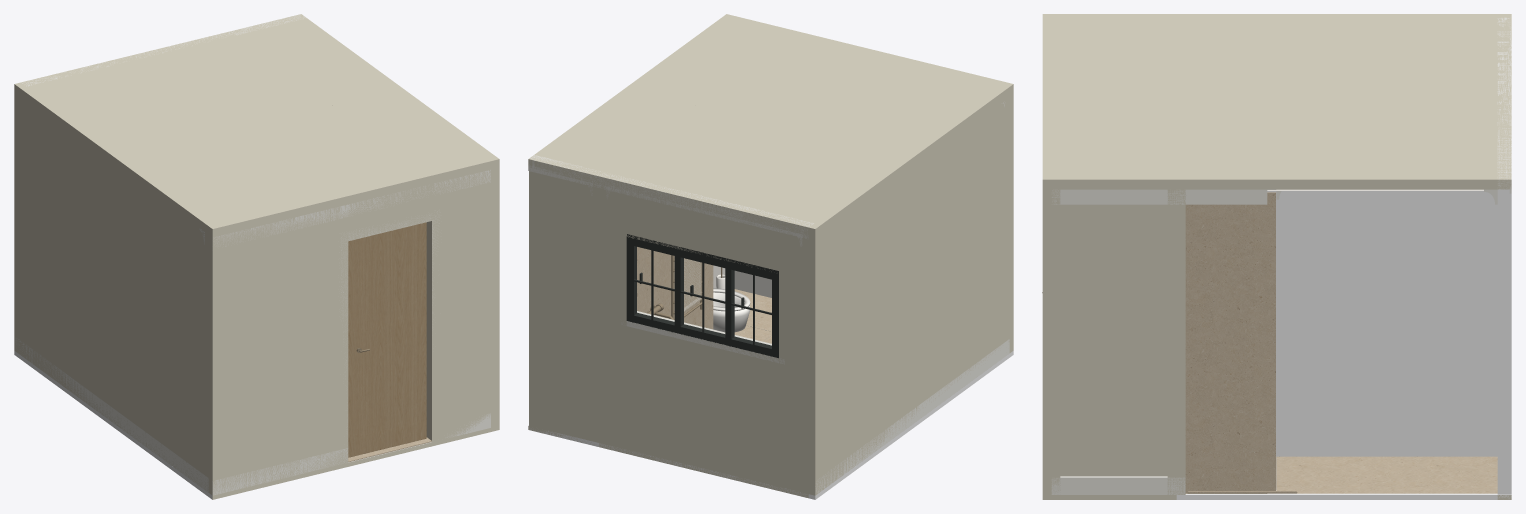
The picture shows the model from 3 angles, left to right: view 1: azimuth 30°, elevation 25°; view 2: azimuth 150°, elevation 25°; view 3: azimuth 270°, elevation 25°; orthographic projection. The views are drawn at different scales.
Visible parts, largest first — view 1: Bathroom bedroom 3 | end.001, Bathroom | ceiling.001, Bathroom hall | pier 0.001, Familybath 01 | entrance door leaf.001, Bathroom hall | end.001, Principal en suite | ceiling.001, Landing continuous ceiling.001, Bedroom 3 hall door | end.001, Bathroom hall | lintel 0.001, Bedroom 3 | ceiling.001, Bathroom bedroom 3 | skirting end-1.001, Airing cupboard hall | west jamb.001 (+4 smaller); view 2: Bathroom bedroom 3 | end.001, Bathroom | ceiling.001, Proposal revision | Bathroom balcony | below 0.001, En suite balcony | pier 0.001, Principal en suite | ceiling.001, Bathroom balcony | pier 0.001, Bathroom balcony | end.001, Proposal revision | Bathroom balcony | lintel 0.001, Bedroom 3 | ceiling.001, Familybath 01 | east upper limestone wall.001, Bathroom en suite | end.001, Bathroom bedroom 3 | skirting end-1.001 (+17 smaller); view 3: Bathroom | ceiling.001, Bathroom en suite | end.001, Bathroom east | end.001, Guestbath 01 | shower west wall.001, Principal en suite | ceiling.001, Guestbath 01 | limestone floor.001, Principal en suite south | end.001, Airing cupboard hall | west jamb.001, En suite balcony | pier 0.001, Landing continuous ceiling.001, Circulation detail | Cove Bathroom east 1.001, Guestbath 01 | retained skirting outside ensuite Bathroom ea (+5 smaller).
Boxes of the visible parts, x1=… form: Bathroom bedroom 3 | end.001: x1=14, y1=92, x2=208, y2=492; Bathroom | ceiling.001: x1=21, y1=31, x2=486, y2=224; Bathroom hall | pier 0.001: x1=219, y1=205, x2=348, y2=492; Familybath 01 | entrance door leaf.001: x1=348, y1=222, x2=426, y2=457; Bathroom hall | end.001: x1=426, y1=170, x2=490, y2=441; Principal en suite | ceiling.001: x1=231, y1=14, x2=442, y2=119; Landing continuous ceiling.001: x1=209, y1=117, x2=499, y2=237; Bedroom 3 hall door | end.001: x1=205, y1=232, x2=219, y2=495; Bathroom hall | lintel 0.001: x1=348, y1=184, x2=431, y2=241; Bedroom 3 | ceiling.001: x1=14, y1=82, x2=214, y2=234; Bathroom bedroom 3 | skirting end-1.001: x1=15, y1=338, x2=208, y2=492; Airing cupboard hall | west jamb.001: x1=491, y1=167, x2=499, y2=427; Bathroom bedroom 3 | end.001: x1=802, y1=95, x2=1009, y2=495; Bathroom | ceiling.001: x1=599, y1=19, x2=1002, y2=235; Proposal revision | Bathroom balcony | below 0.001: x1=626, y1=322, x2=778, y2=486; En suite balcony | pier 0.001: x1=529, y1=169, x2=599, y2=441; Principal en suite | ceiling.001: x1=528, y1=55, x2=701, y2=184; Bathroom balcony | pier 0.001: x1=779, y1=229, x2=808, y2=493; Bathroom balcony | end.001: x1=599, y1=185, x2=626, y2=449; Proposal revision | Bathroom balcony | lintel 0.001: x1=626, y1=192, x2=778, y2=271; Bedroom 3 | ceiling.001: x1=808, y1=85, x2=1009, y2=237; Familybath 01 | east upper limestone wall.001: x1=637, y1=247, x2=713, y2=329; Bathroom en suite | end.001: x1=592, y1=183, x2=605, y2=444; Bathroom bedroom 3 | skirting end-1.001: x1=815, y1=339, x2=1009, y2=493; Bathroom | ceiling.001: x1=1051, y1=17, x2=1511, y2=174; Bathroom en suite | end.001: x1=1276, y1=191, x2=1497, y2=456; Bathroom east | end.001: x1=1060, y1=204, x2=1266, y2=493; Guestbath 01 | shower west wall.001: x1=1186, y1=192, x2=1275, y2=492; Principal en suite | ceiling.001: x1=1176, y1=138, x2=1511, y2=189; Guestbath 01 | limestone floor.001: x1=1186, y1=456, x2=1497, y2=493; Principal en suite south | end.001: x1=1167, y1=189, x2=1185, y2=494; Airing cupboard hall | west jamb.001: x1=1042, y1=189, x2=1060, y2=494; En suite balcony | pier 0.001: x1=1497, y1=189, x2=1511, y2=494; Landing continuous ceiling.001: x1=1042, y1=14, x2=1176, y2=189; Circulation detail | Cove Bathroom east 1.001: x1=1052, y1=189, x2=1267, y2=204; Guestbath 01 | retained skirting outside ensuite Bathroom ea: x1=1051, y1=476, x2=1185, y2=494.
Bounding box in the file's own units: 2.85 × 2.57 × 3.41.
Materials: 20 (4 with a texture image).
